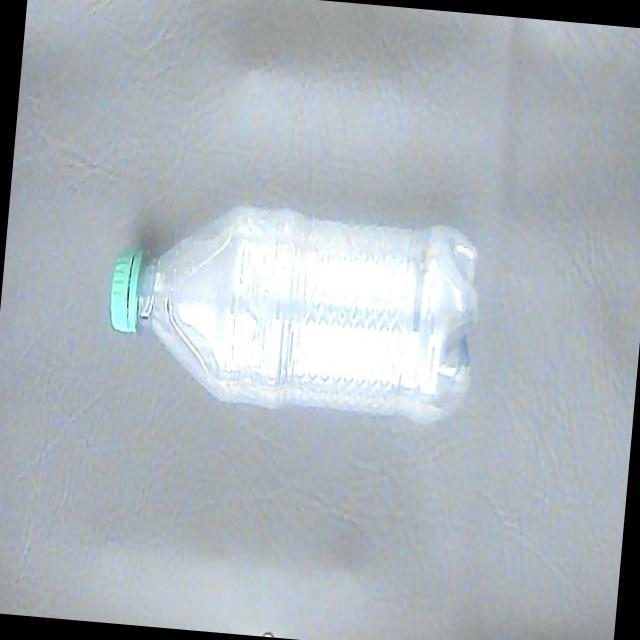good: (99, 184, 488, 436)
